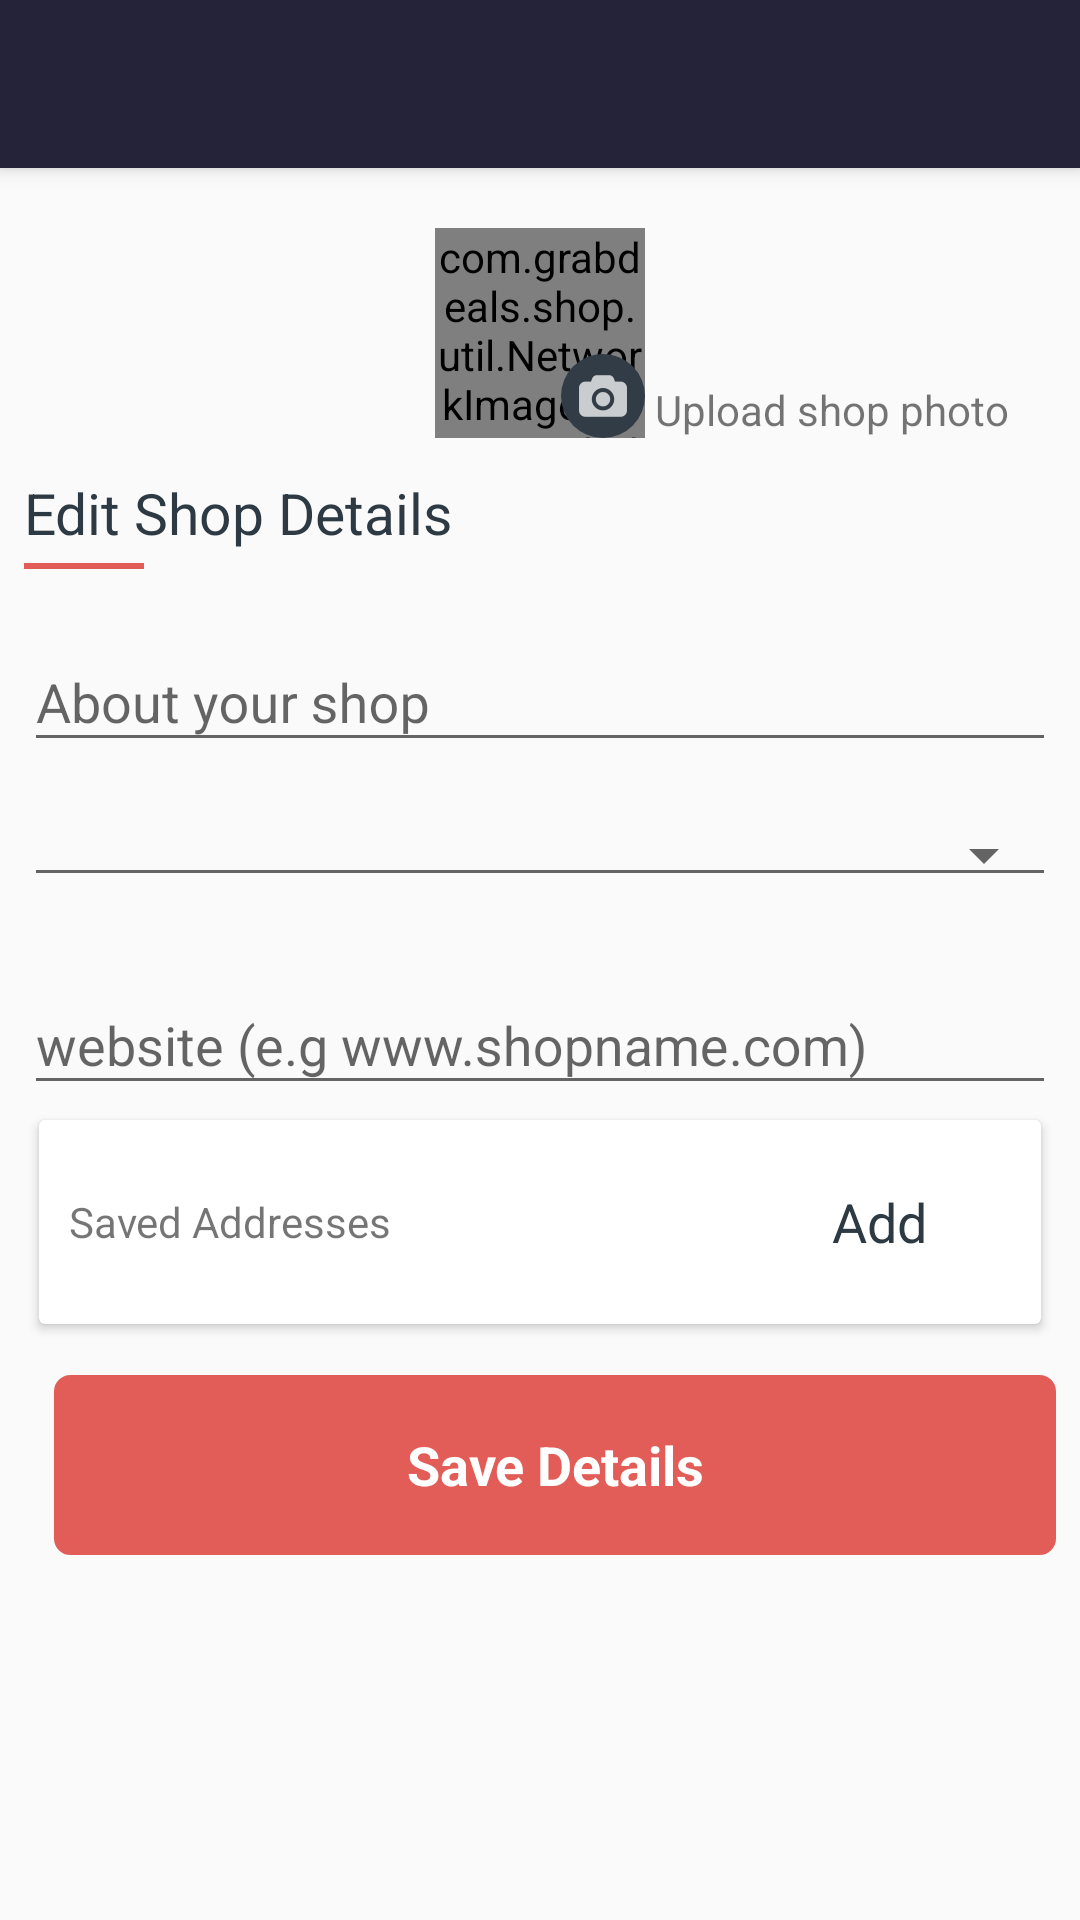

Named icons in this screenshot (1080px x 1920px) and their centers, [x,y]:
photo camera: [603,396]
